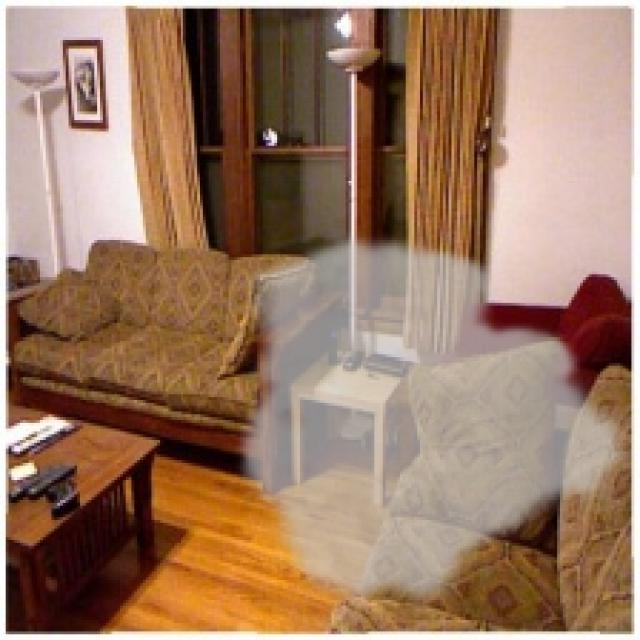Smoke: (234, 232, 637, 614)
